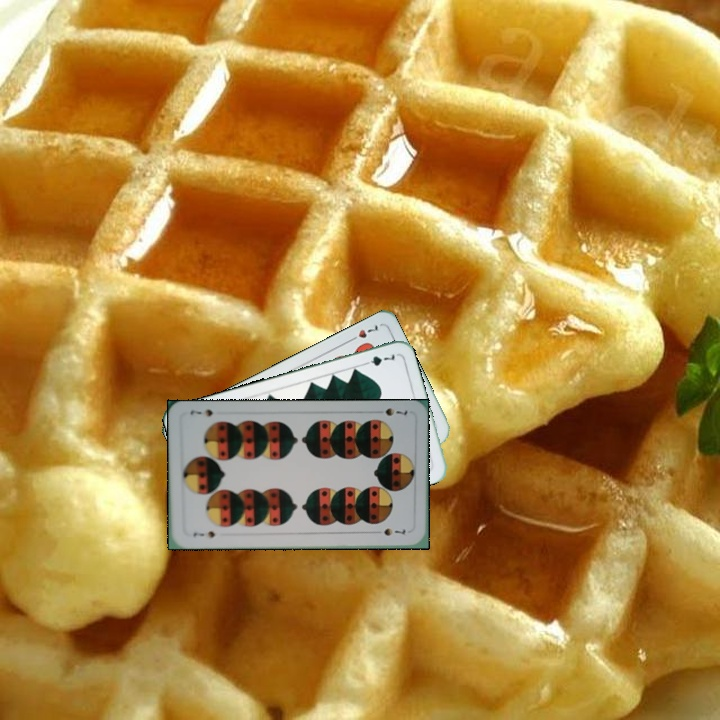G7: (358, 350, 398, 368)
H7: (344, 320, 382, 345)
S7: (371, 404, 410, 418), (189, 527, 217, 540)
